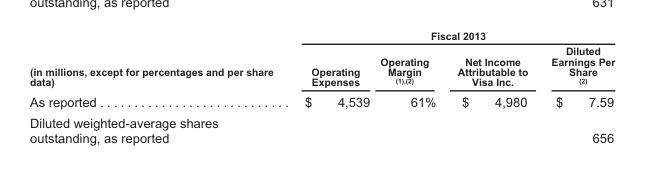table: (29, 29, 614, 144)
table column: (29, 29, 288, 144), (446, 29, 538, 144), (288, 29, 374, 144), (538, 29, 614, 144), (374, 29, 446, 144)
table column header: (29, 29, 614, 90)
table row: (29, 42, 614, 90), (29, 111, 614, 144), (29, 90, 614, 111), (29, 29, 614, 42)
table spanning cell: (29, 29, 288, 90), (288, 29, 614, 42)
